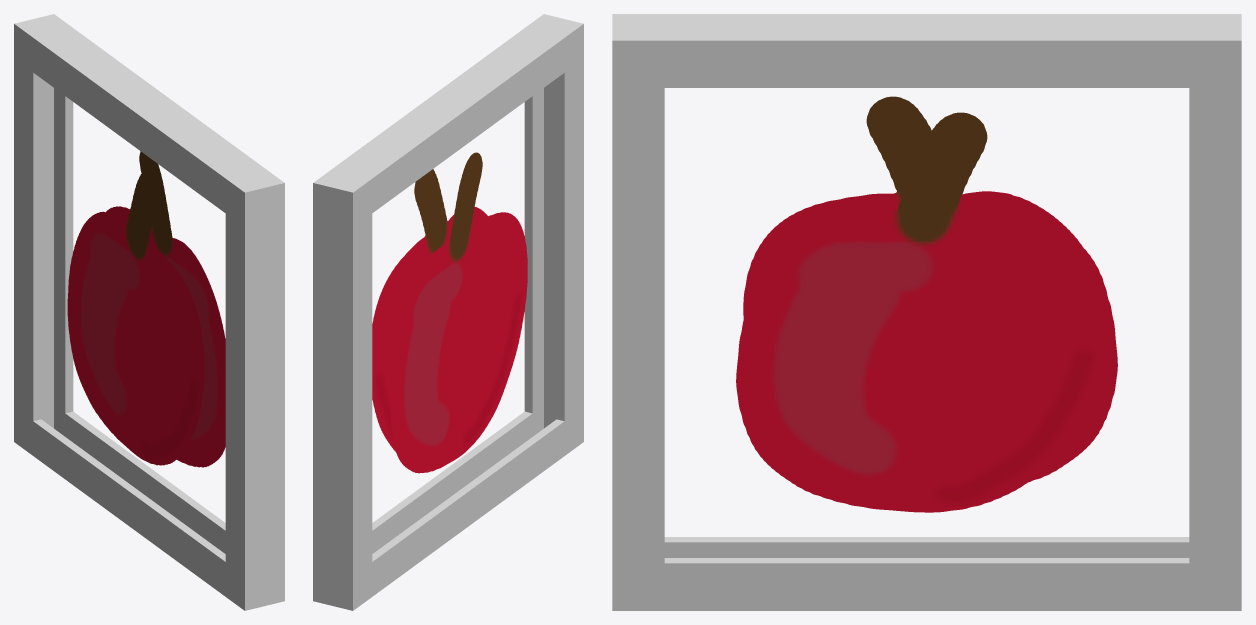
File: item_frame_fbx.fbx
The picture shows the model from 3 angles, left to right: view 1: azimuth 30°, elevation 25°; view 2: azimuth 150°, elevation 25°; view 3: azimuth 270°, elevation 25°; orthographic projection. The views are drawn at different scales.
Visible parts, largest first — view 1: Cube; view 2: Cube; view 3: Cube.
Part boxes in pixels (<box>): Cube: <box>14,14,284,610</box>; Cube: <box>313,14,583,610</box>; Cube: <box>612,14,1241,610</box>.
Size of the model in its own units: 8 by 80 by 80.
